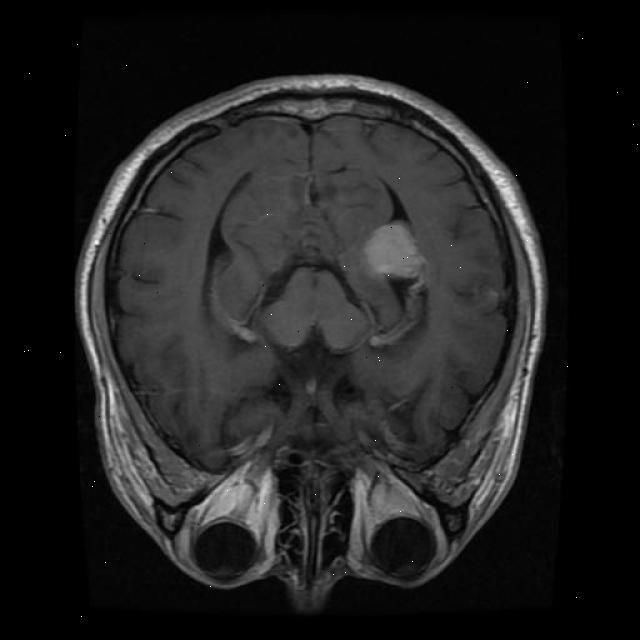Meningioma: (363, 222, 424, 280)
